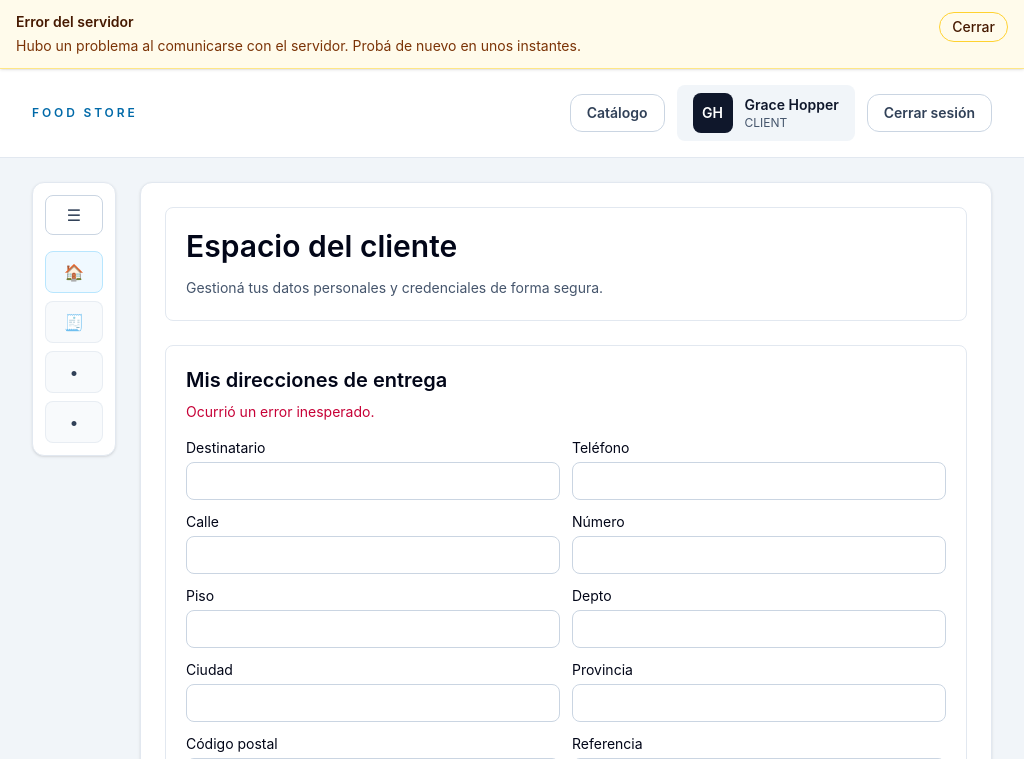
Auth flows › logs out, clears local session state and returns to a public route
Expected: the heading "Espacio del cliente" is shown, [186,228,457,264]
Click the button "Cerrar sesión" at point(929, 113), box [867,94,992,132]
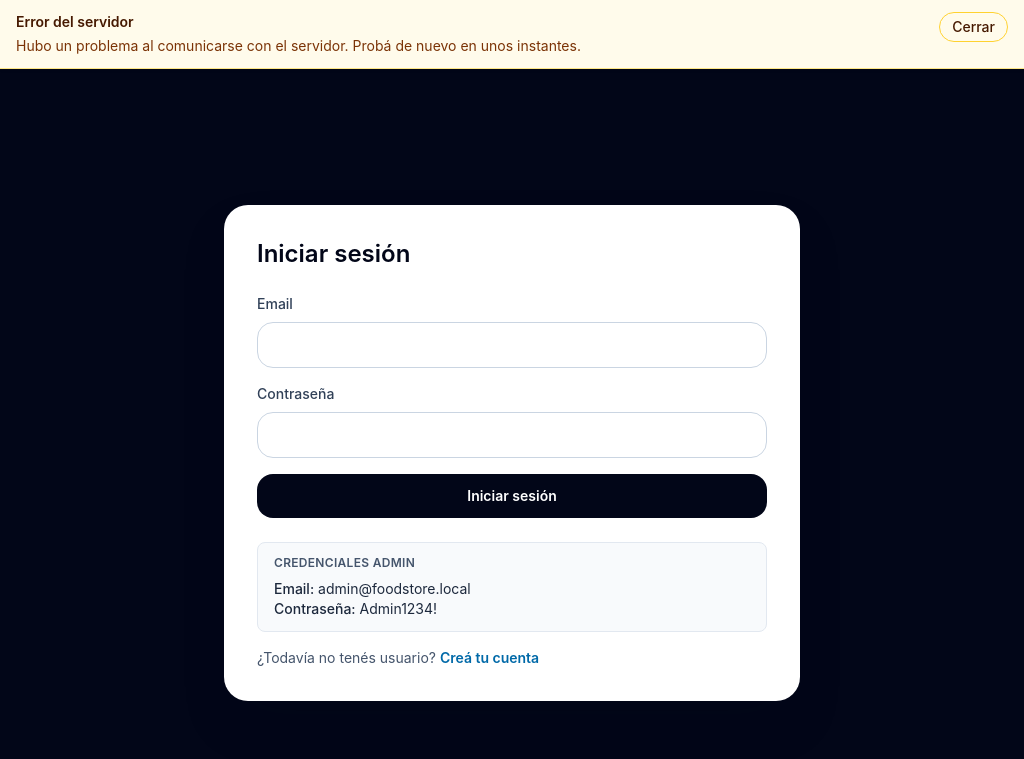
Expected: the heading "Iniciar sesión" is shown, [257,239,410,268]
